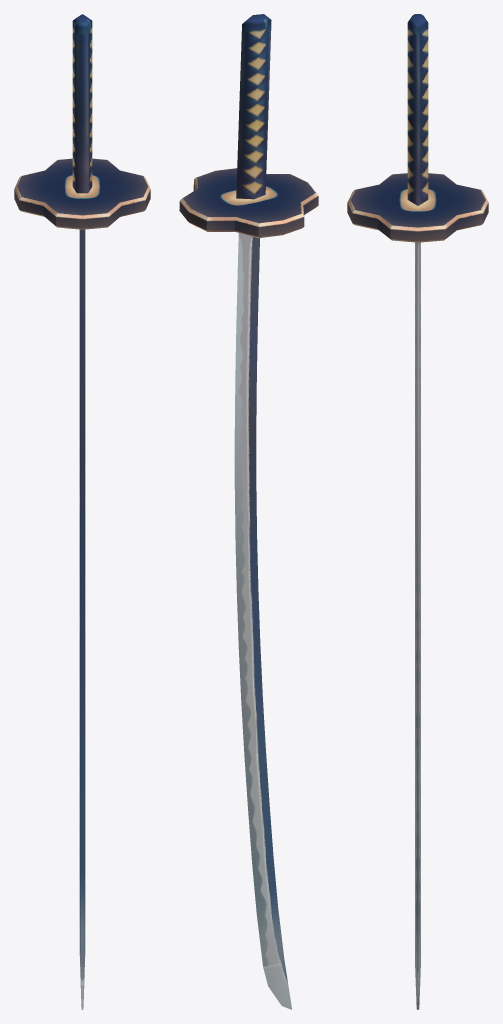
3 renders of one model, left to right at view 1: azimuth 90°, elevation 25°; view 2: azimuth 210°, elevation 25°; view 3: azimuth 270°, elevation 25°, orthographic. The views are drawn at different scales.
Visible parts, largest first — view 1: A_6D5; view 2: A_6D5; view 3: A_6D5.
Boxes of the visible parts, x1,y1,x2,y2 form: A_6D5: (14, 14, 150, 1009); A_6D5: (179, 14, 318, 1009); A_6D5: (347, 14, 488, 1009).
Bounding box in the file's own units: 22.1 × 174 × 22.08.
